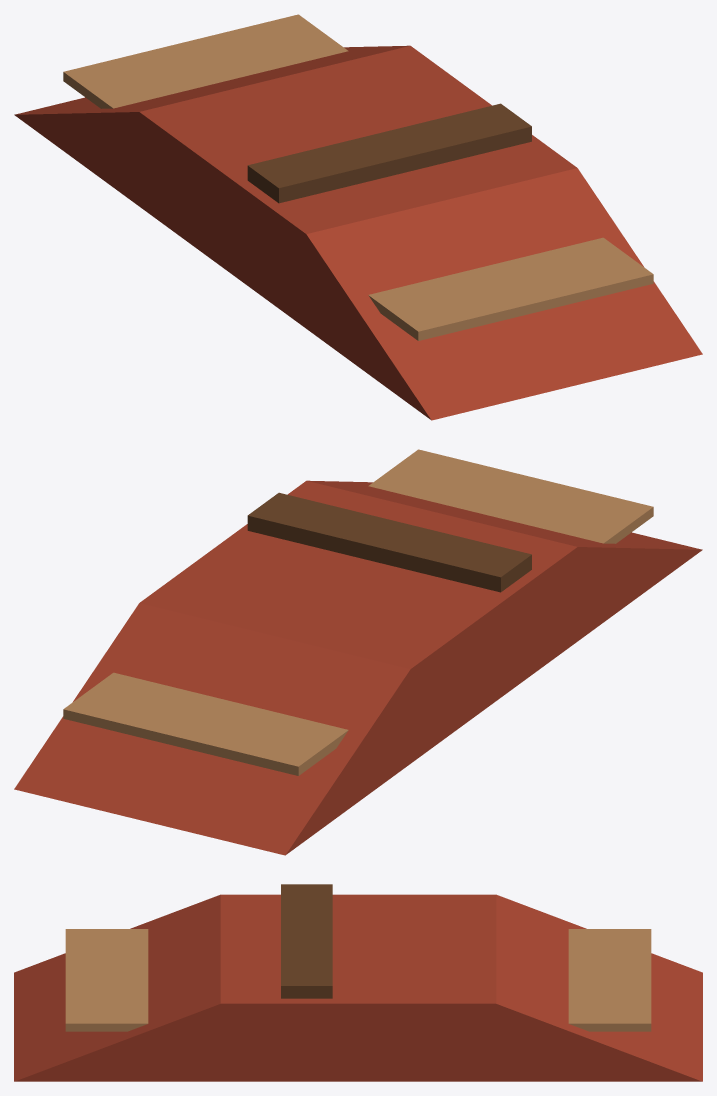
File: rowboat.glb
3 renders of one model, top to bottom at view 1: azimuth 30°, elevation 25°; view 2: azimuth 150°, elevation 25°; view 3: azimuth 270°, elevation 25°, orthographic. The views are drawn at different scales.
Visible parts, largest first — view 1: boat; view 2: boat; view 3: boat.
Boxes of the visible parts, x1,y1,x2,y2 form: boat: [14, 14, 702, 420]; boat: [14, 449, 702, 855]; boat: [14, 884, 702, 1081].
Size of the model in its own units: 1.5 by 0.5898 by 4.
